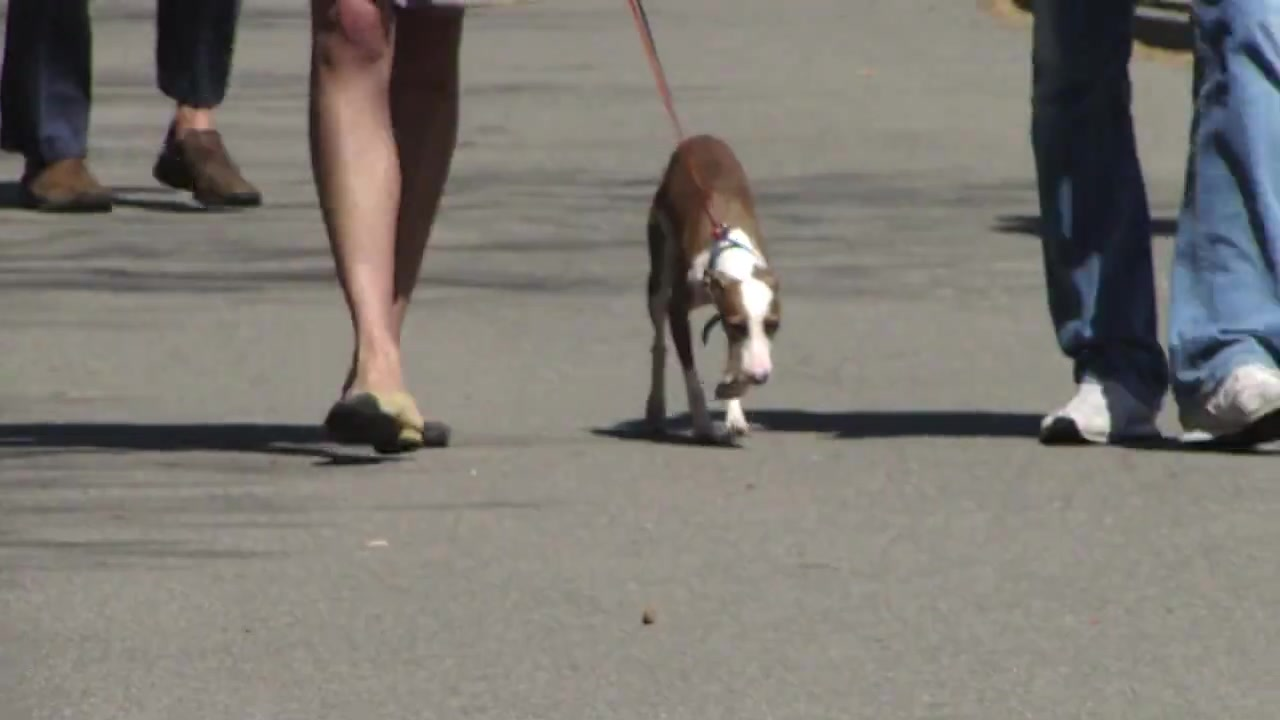dog: (645, 136, 785, 444)
